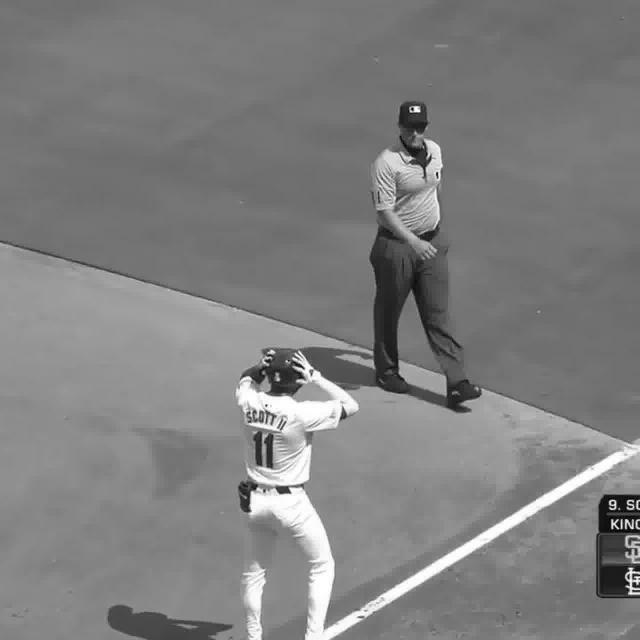shoe: (446, 380, 483, 408), (375, 371, 415, 390)
